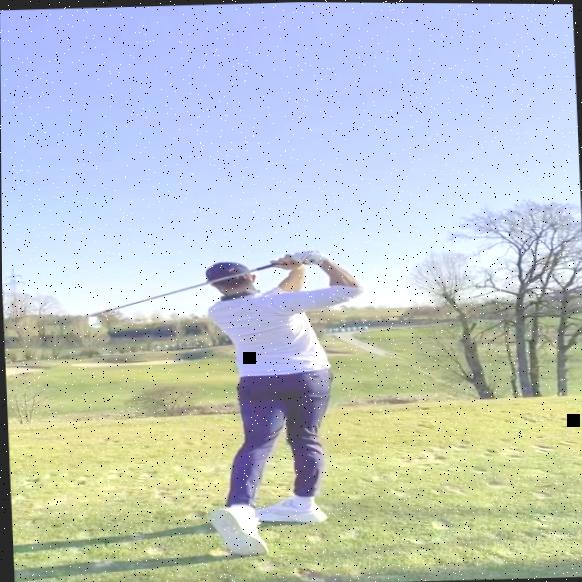ClubHead: (86, 315, 100, 329)
